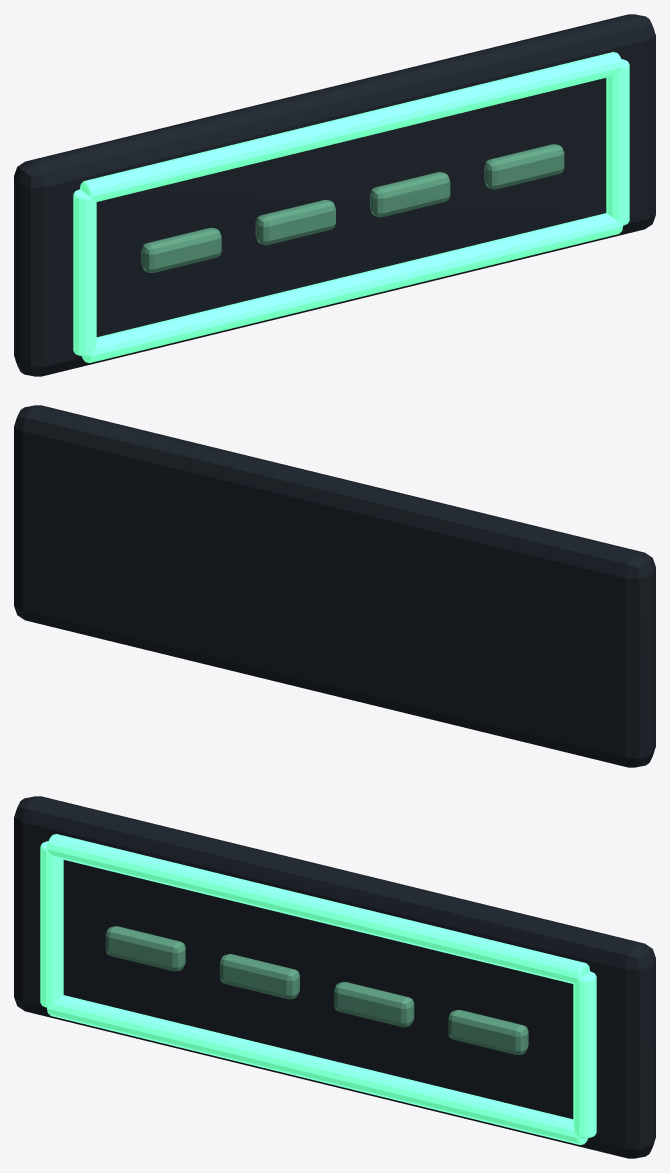
File: neon.glb
3 renders of one model, top to bottom at view 1: azimuth 30°, elevation 25°; view 2: azimuth 150°, elevation 25°; view 3: azimuth 330°, elevation 25°, orthographic.
Visible parts, largest first — view 1: neon; view 2: neon; view 3: neon.
Boxes of the visible parts, x1,y1,x2,y2 form: neon: [14, 14, 655, 376]; neon: [14, 405, 655, 767]; neon: [14, 796, 655, 1158].
Bounding box in the file's own units: 1 × 0.32 × 0.0925.
